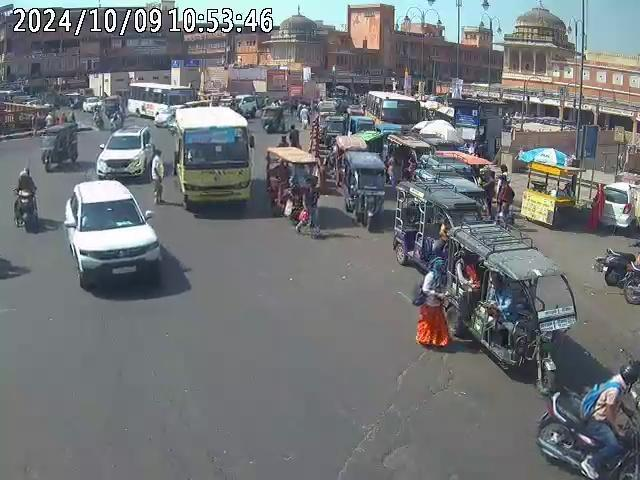auto: (446, 221, 576, 393), (394, 181, 482, 273), (264, 145, 321, 224), (342, 150, 386, 230), (40, 117, 79, 172)
bus: (173, 105, 254, 212)
car: (62, 179, 163, 294), (94, 124, 153, 181), (591, 181, 639, 232)
helmet: (617, 359, 640, 385)
license_plate: (110, 264, 138, 274)
motorbike-rider: (535, 357, 640, 479)
person: (416, 261, 450, 348), (151, 148, 166, 204)
scooty-rider: (12, 168, 40, 232)
